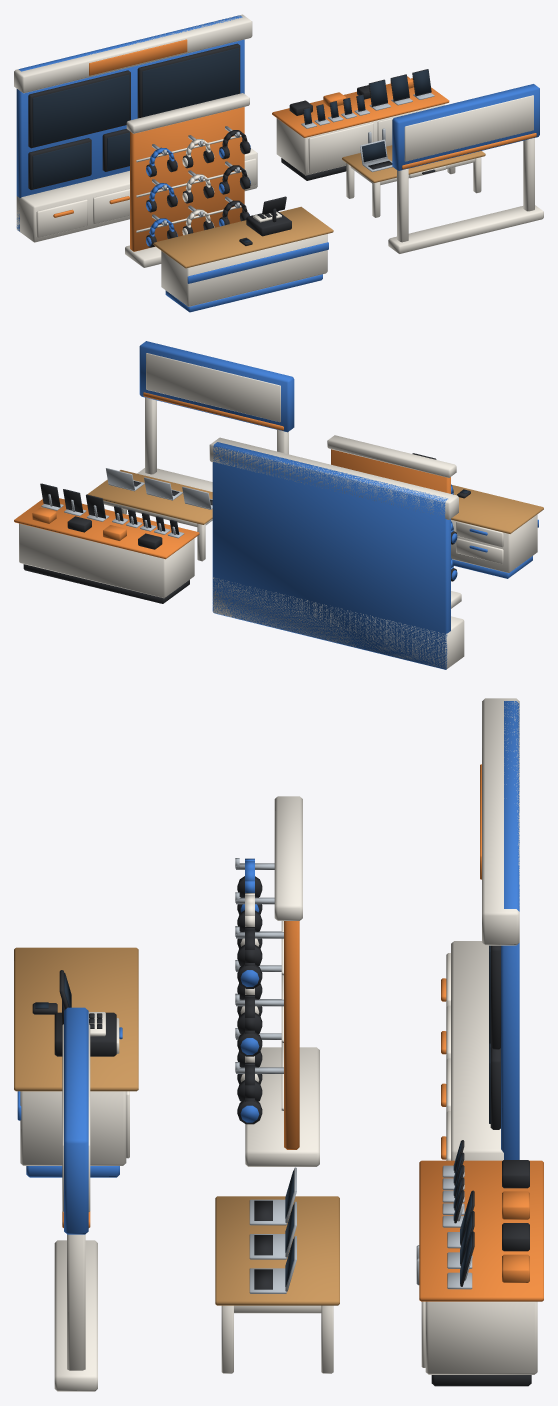
File: electronics-store-set.glb
3 views of the same model, one above another, from view 1: azimuth 30°, elevation 25°; view 2: azimuth 150°, elevation 25°; view 3: azimuth 270°, elevation 25° (orthographic). The views are drawn at different scales.
Visible parts, largest first — view 1: TV_Wall_Body, Headphone_Rack_Body, Checkout_Counter_Body, Sign_Blank_Body, Phone_Counter_Body, Laptop_Table_Body, Door_1, Drawer_1, Drawer_2, Door_2; view 2: TV_Wall_Body, Phone_Counter_Body, Sign_Blank_Body, Checkout_Counter_Body, Laptop_Table_Body, Headphone_Rack_Body, Counter_Drawer_2, Counter_Drawer_1; view 3: Phone_Counter_Body, TV_Wall_Body, Checkout_Counter_Body, Headphone_Rack_Body, Laptop_Table_Body, Sign_Blank_Body.
Boxes of the visible parts, x1,y1,x2,y2 form: TV_Wall_Body: (14, 14, 257, 242); Headphone_Rack_Body: (125, 93, 250, 267); Checkout_Counter_Body: (153, 196, 333, 312); Sign_Blank_Body: (388, 84, 543, 253); Phone_Counter_Body: (272, 69, 449, 180); Laptop_Table_Body: (342, 139, 485, 217); Door_1: (308, 122, 373, 173); Drawer_1: (36, 199, 87, 237); Drawer_2: (93, 188, 129, 224); Door_2: (377, 106, 441, 146); TV_Wall_Body: (209, 437, 464, 669); Phone_Counter_Body: (14, 483, 199, 603); Sign_Blank_Body: (137, 341, 294, 491); Checkout_Counter_Body: (412, 453, 543, 578); Laptop_Table_Body: (87, 468, 212, 561); Headphone_Rack_Body: (327, 435, 461, 608); Counter_Drawer_2: (456, 538, 503, 564); Counter_Drawer_1: (456, 521, 503, 547); Phone_Counter_Body: (419, 1140, 543, 1386); TV_Wall_Body: (451, 698, 519, 1160); Checkout_Counter_Body: (14, 947, 138, 1177); Headphone_Rack_Body: (235, 796, 319, 1166); Laptop_Table_Body: (215, 1167, 339, 1373); Sign_Blank_Body: (54, 1007, 97, 1391).
Bounding box in the file's own units: 29.26 × 11 × 17.01.
